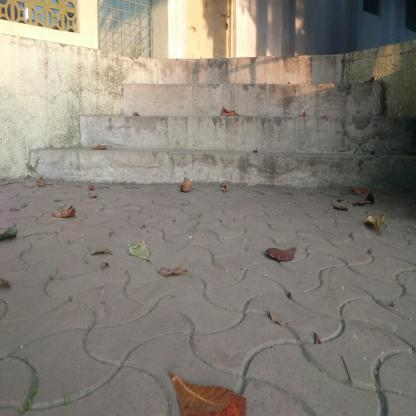stairs: (134, 58, 343, 192)
